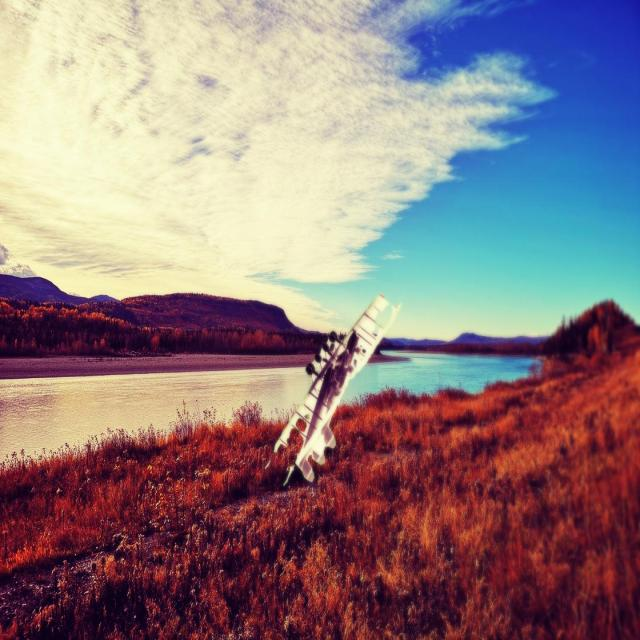airplane: (264, 292, 402, 487)
